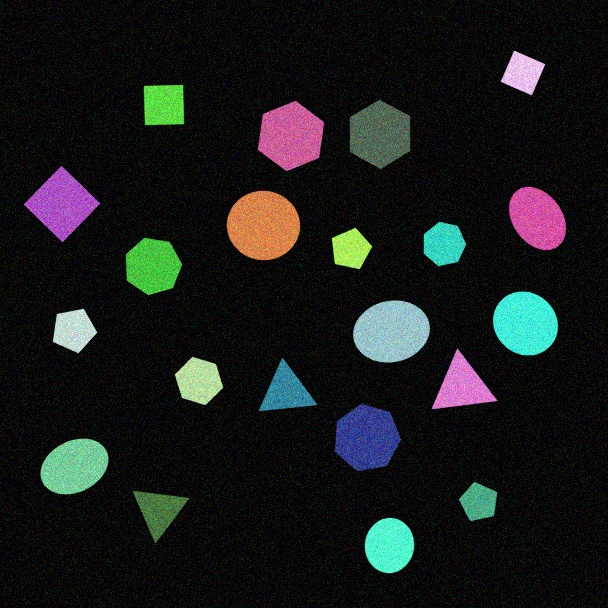Circulo: (226, 190, 301, 261), (492, 291, 559, 356), (364, 517, 415, 574)
Elipse: (352, 300, 431, 363), (40, 438, 109, 495), (508, 186, 567, 251)
Heptagono: (334, 403, 402, 472), (125, 237, 183, 296), (423, 221, 467, 267)
Hexagono: (257, 100, 325, 172), (349, 99, 411, 170), (174, 356, 224, 406)
Pentagono: (52, 308, 98, 354), (331, 227, 373, 270), (458, 481, 498, 522)
Quadrado: (23, 165, 101, 243), (500, 50, 546, 96), (143, 84, 185, 126)
Triangulo: (431, 349, 498, 410), (258, 358, 318, 412), (132, 490, 190, 544)
